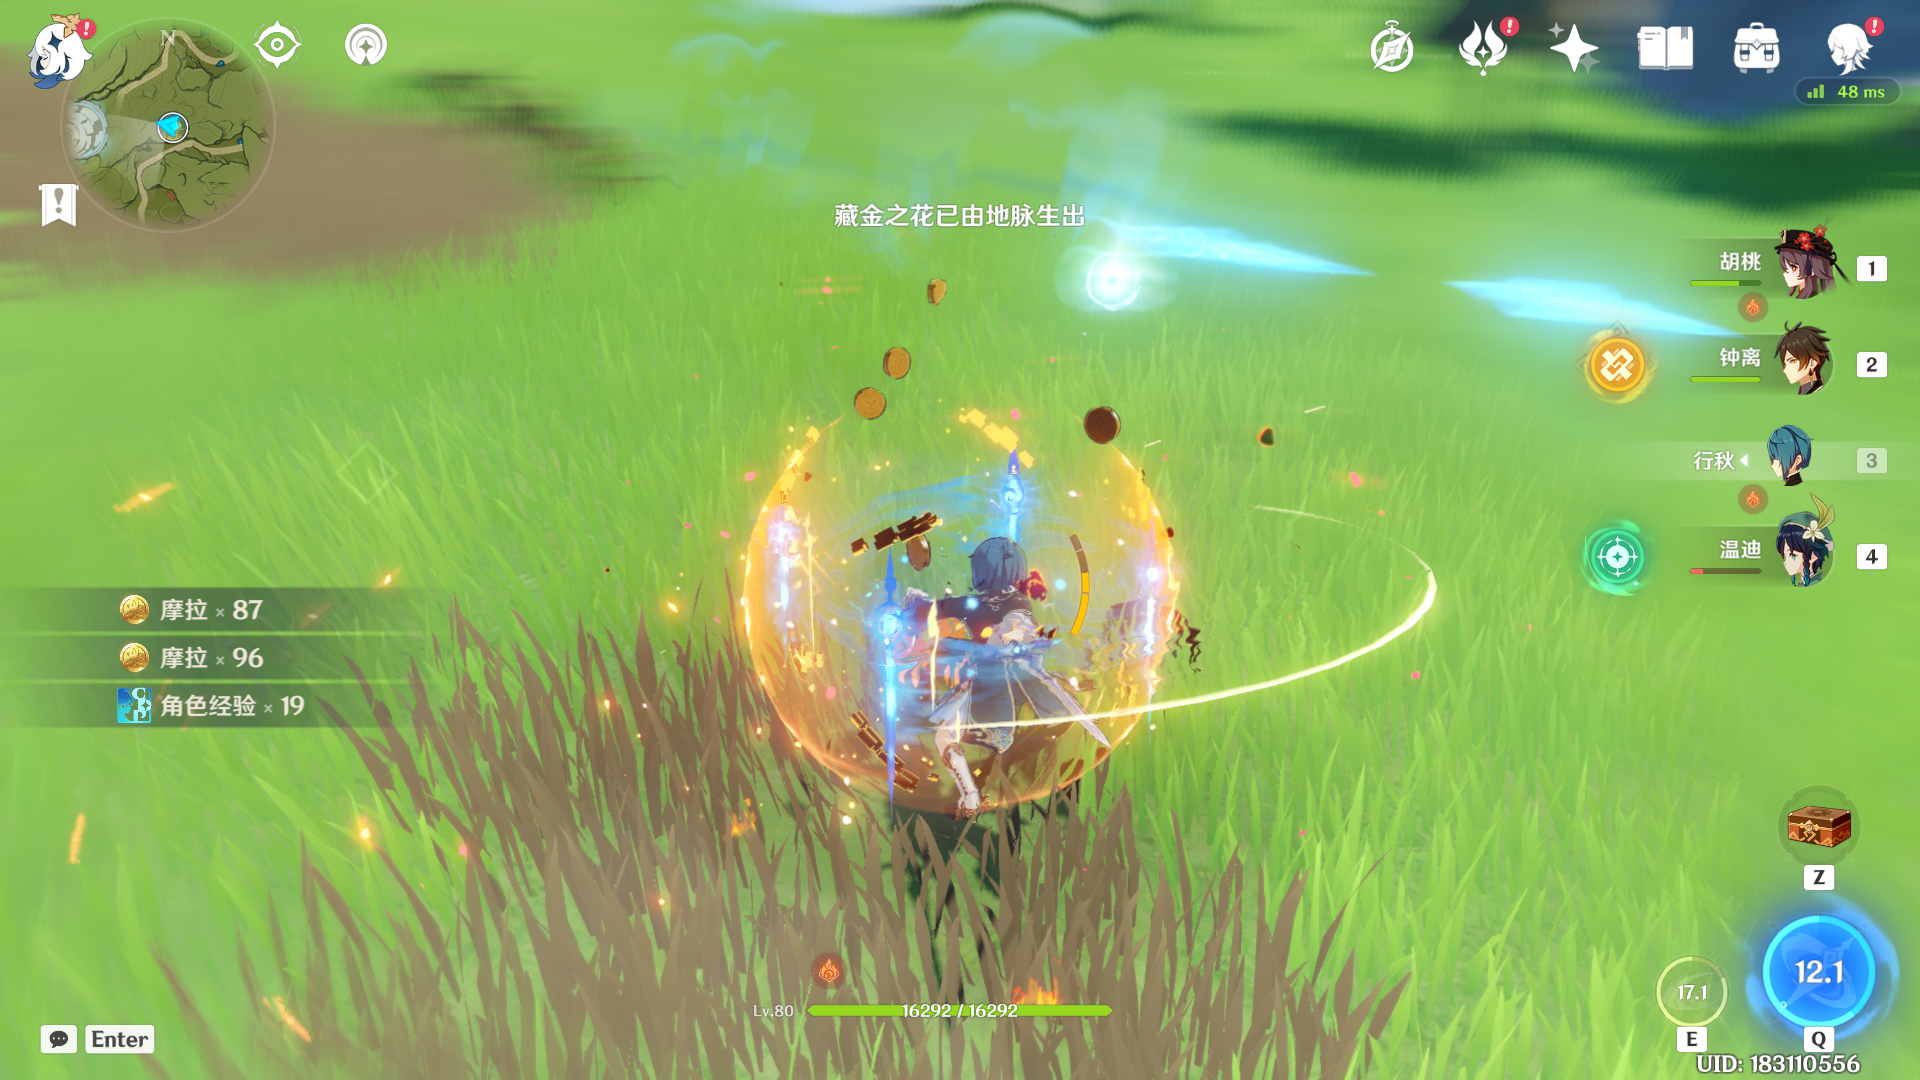character: (833, 463, 1172, 881)
